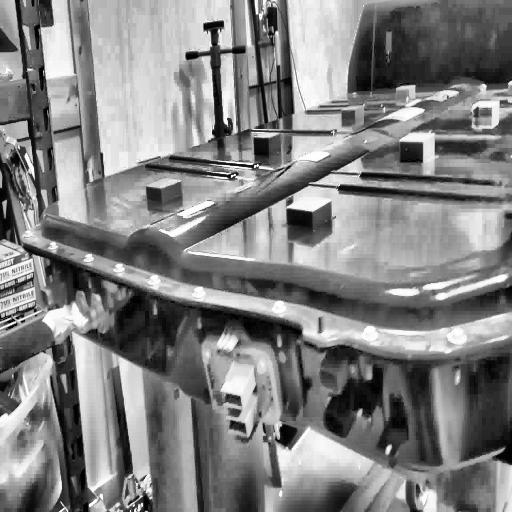b_casing: (7, 0, 512, 462)
nut: (446, 326, 468, 388), (360, 327, 379, 382), (271, 299, 287, 349), (191, 284, 204, 327), (147, 274, 160, 316), (112, 263, 125, 299), (83, 252, 95, 290), (47, 241, 59, 274), (22, 228, 32, 258)
